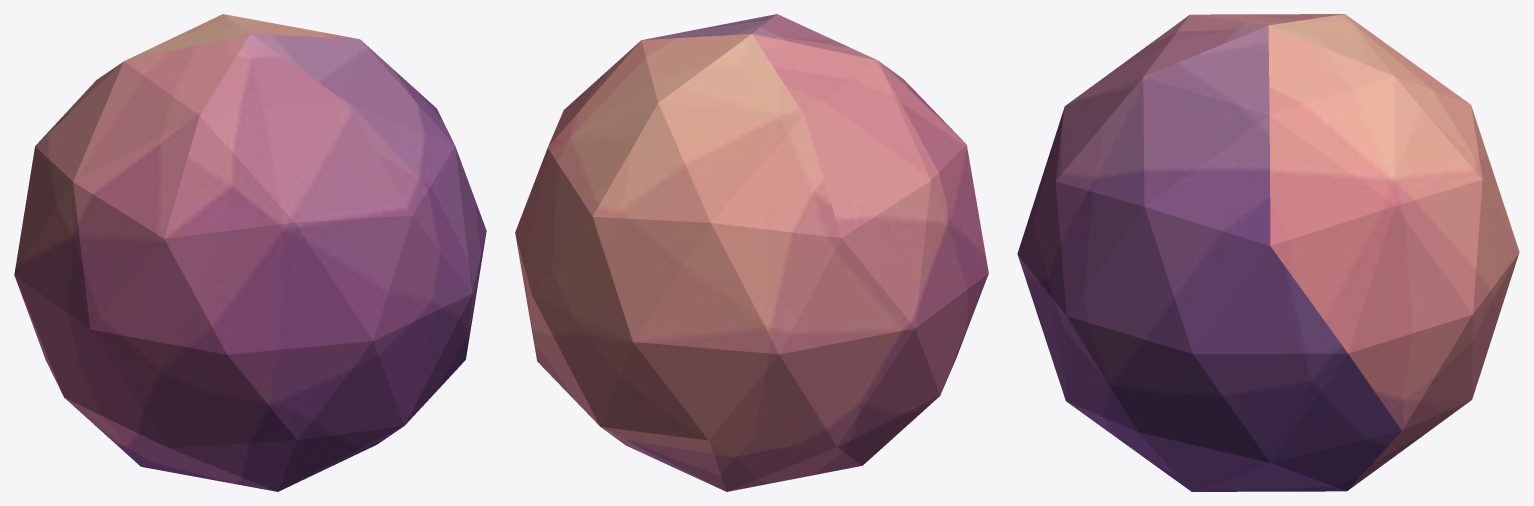
File: fondmonde3.obj
3 views of the same model, side by side, from view 1: azimuth 30°, elevation 25°; view 2: azimuth 150°, elevation 25°; view 3: azimuth 270°, elevation 25° (orthographic). The views are drawn at different scales.
Visible parts, largest first — view 1: Icosphere.001; view 2: Icosphere.001; view 3: Icosphere.001.
Part boxes in pixels (bbox=[...]): Icosphere.001: bbox=[14, 14, 486, 491]; Icosphere.001: bbox=[515, 14, 988, 491]; Icosphere.001: bbox=[1017, 14, 1519, 491].
Bounding box in the file's own units: 209 × 219 × 219.
Materials: 1 (1 with a texture image).
